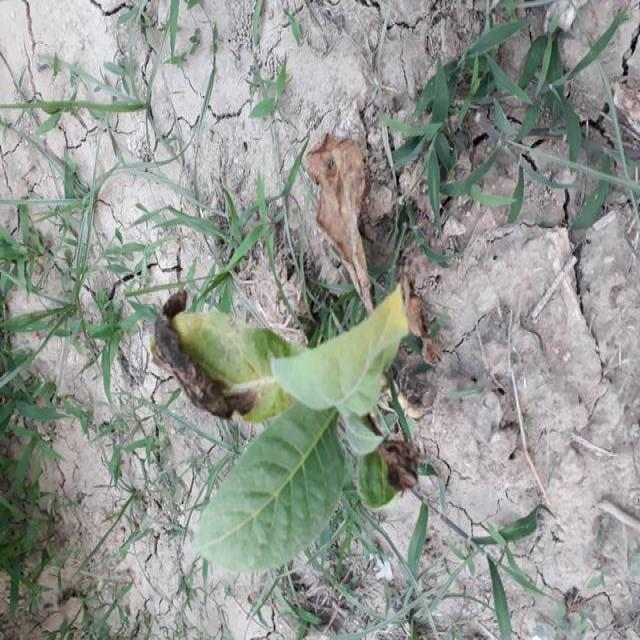crop: (178, 282, 417, 566)
